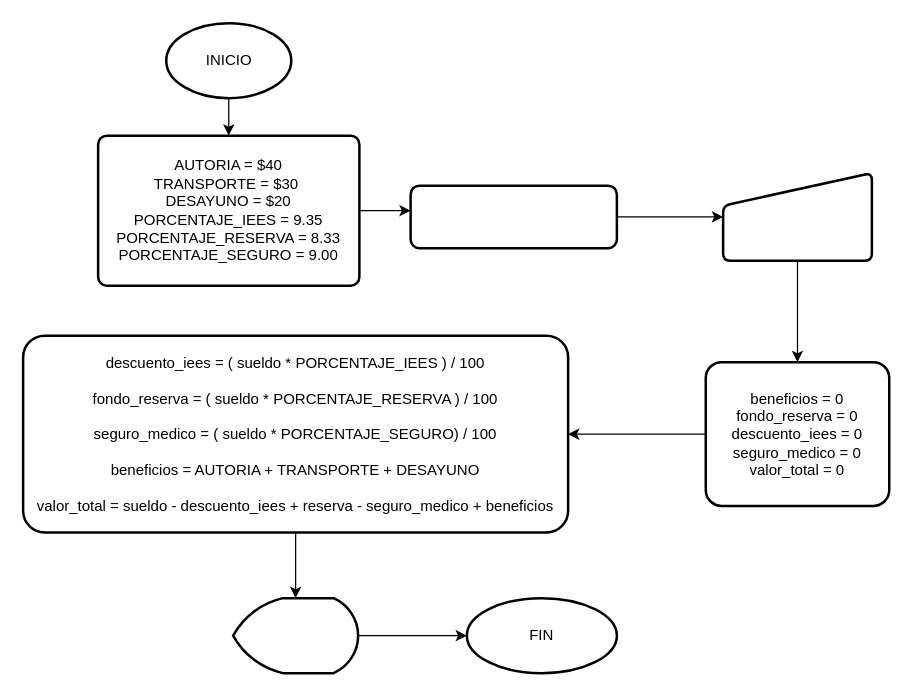
Some shapes in this 911 by 695 pixel diagram are drawn without their labels. The shapes that lost their labels are listed below. From the top down, each one's centre as x and y in pixels, then its label:
At point 513,216: "docente = $ sueldo = 0".
At point 796,216: "docente sueldo".
At point 295,635: "valor_total".
